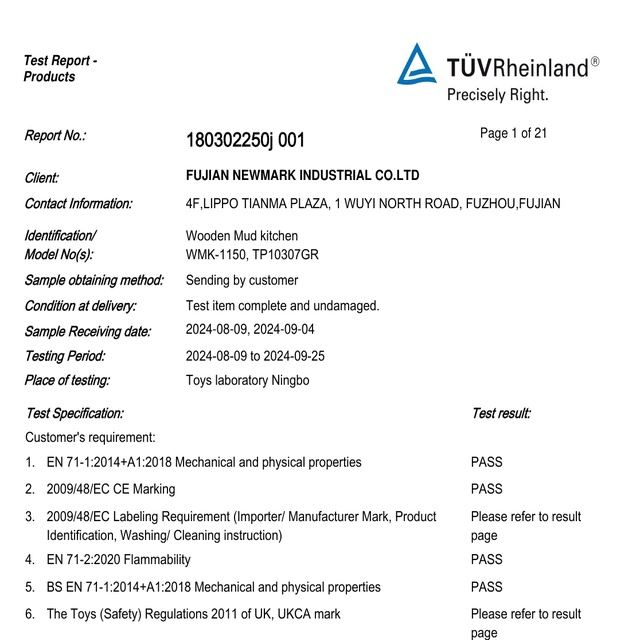tuv_rheinland: (395, 41, 601, 88)
